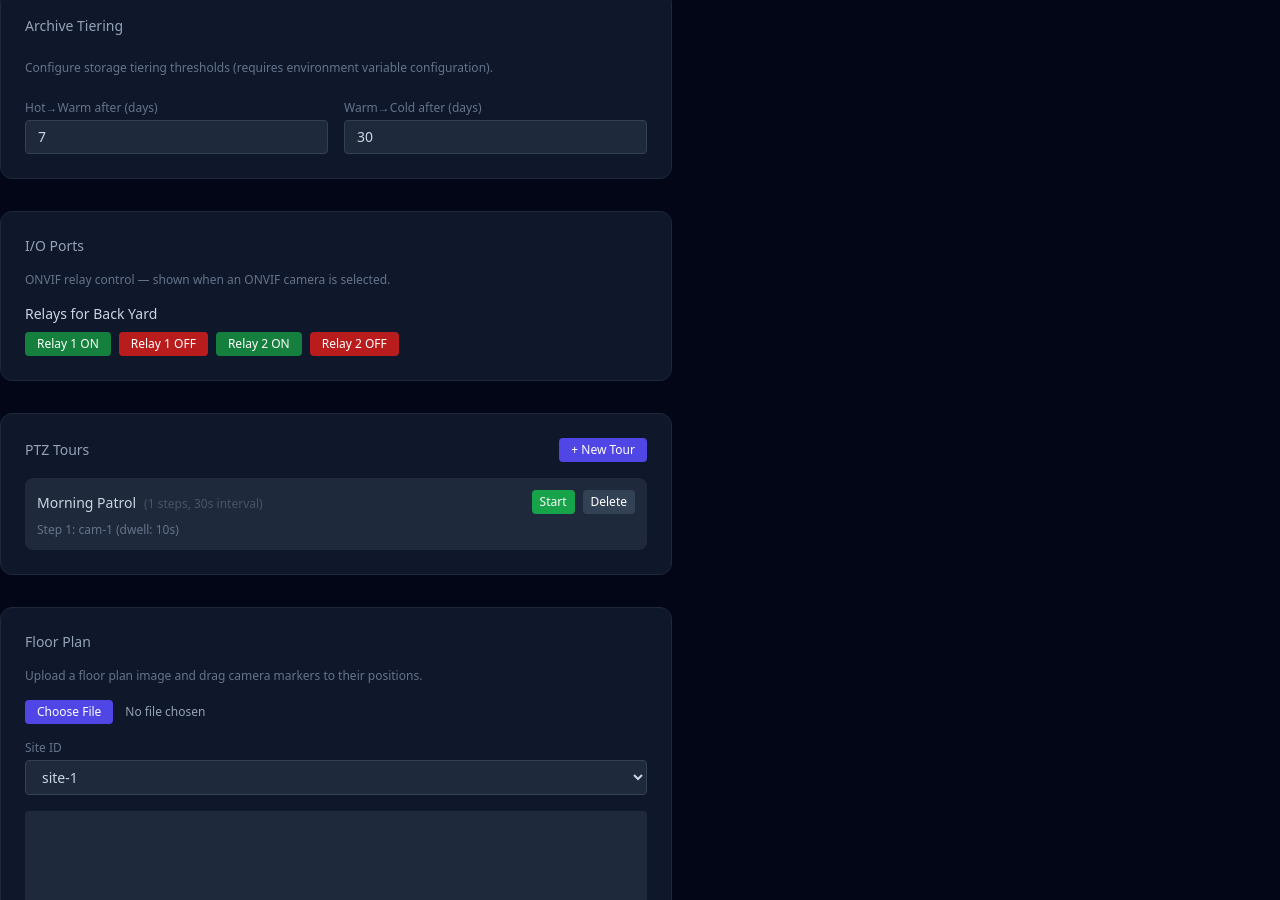
Test: SettingsPage › opens new tour dialog when clicking + New Tour
The image size is (1280, 900).
(page scrolled)
Click the button "+ New Tour" at (603, 450), box [559, 438, 647, 462]
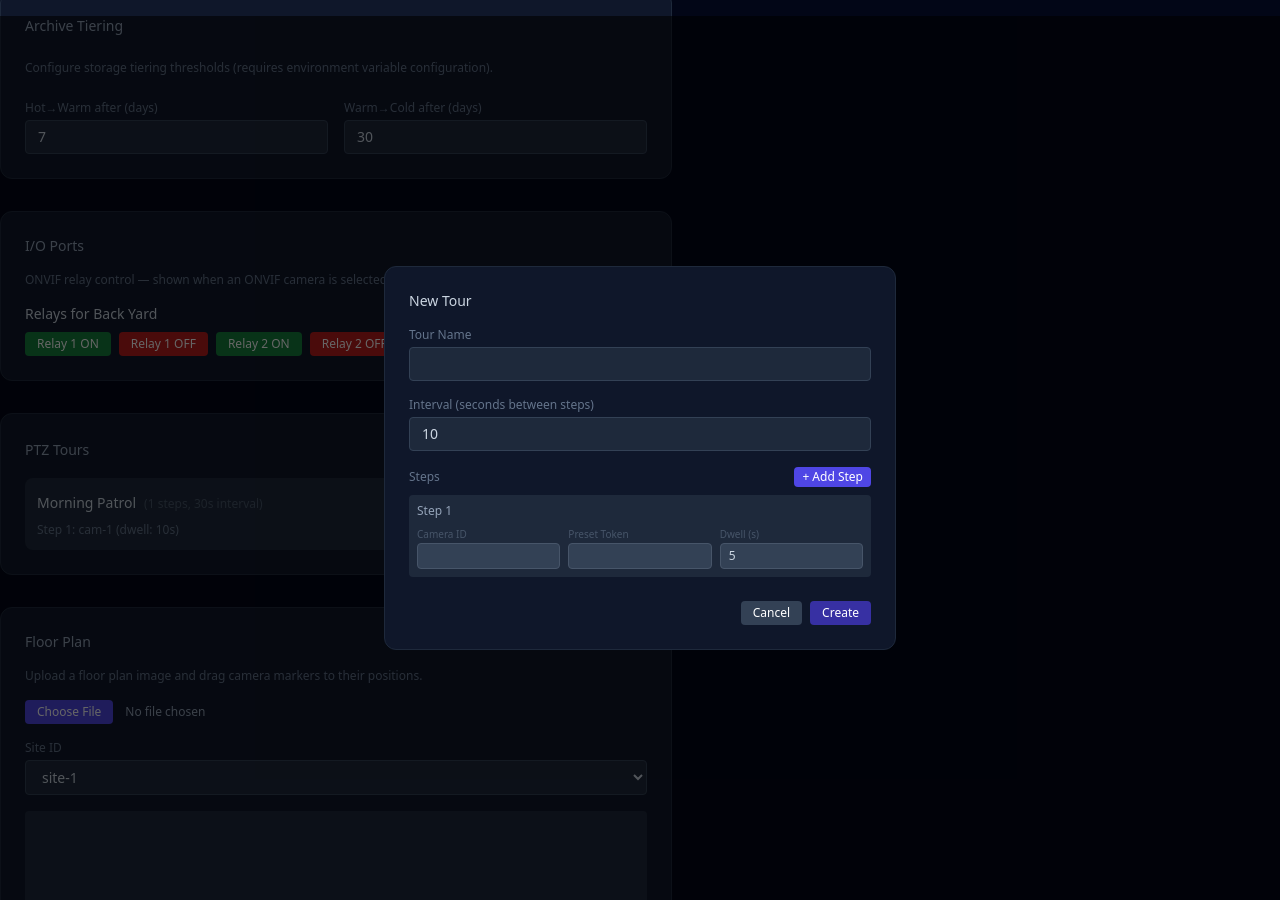
Result: the heading "New Tour" is shown at [409, 291, 472, 310]
Result: the text "Tour Name" is shown at [409, 326, 471, 343]
